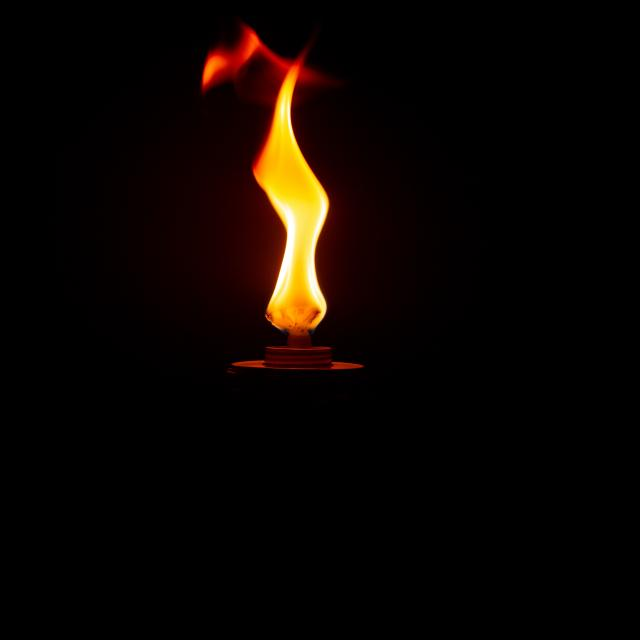fire: (173, 20, 362, 330)
